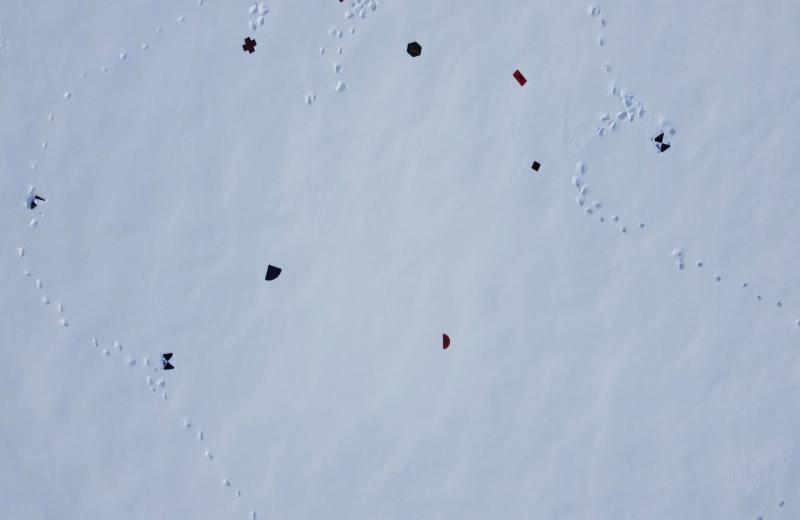Cross: (241, 36, 258, 56)
Hexagon: (405, 41, 423, 59)
Quarter Circle: (262, 263, 283, 283)
Rectangle: (512, 68, 528, 88)
Semi Circle: (440, 331, 452, 351)
Square: (530, 159, 541, 174)
